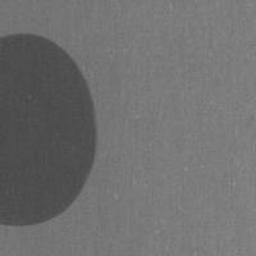Oil spot: (0, 31, 100, 229)
